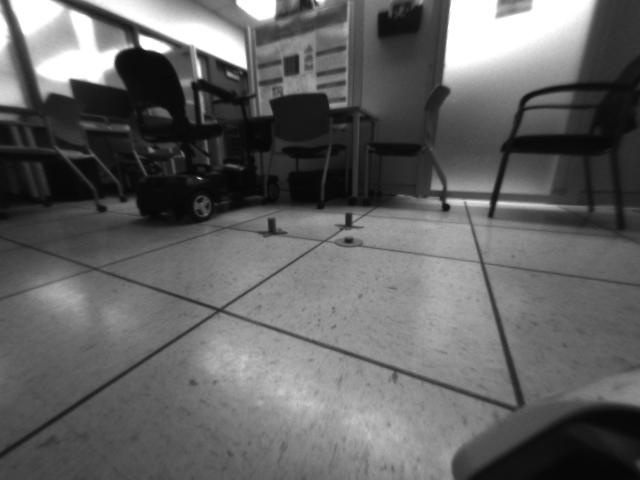X: (260, 215, 287, 239), (335, 211, 365, 231)
